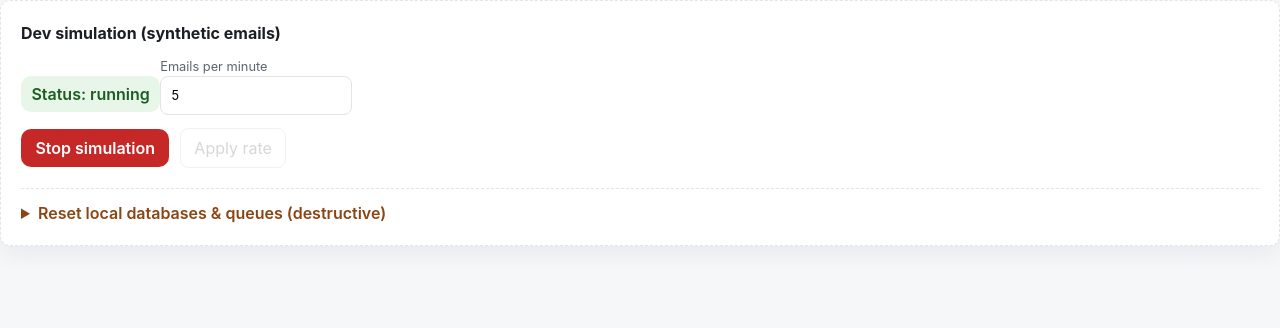
Test: SimulationPanel › Stop simulation posts enabled false without requiring rate change
Click the button "Stop simulation" at (95, 148), box [21,129,169,167]
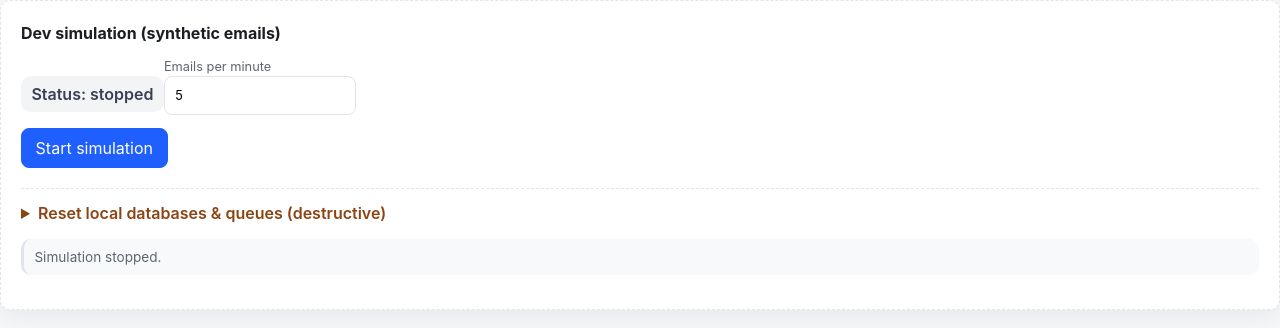
Now the text "Status: stopped" is shown, box [21,76,164,112]
